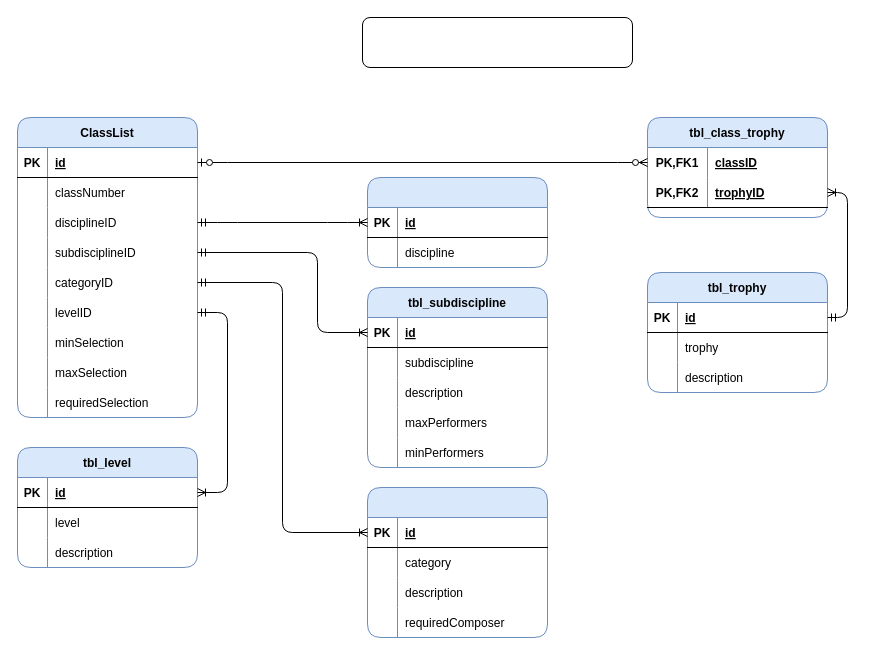
Some shapes in this 874 by 655 pixel diagram are drawn without their labels. The shapes that lost their labels are listed below. From the top down, each one's box as (x1, y1, x2, y2) in pixels, then its label:
(362, 16, 632, 68): Festival Class Database
(366, 176, 548, 268): tbl_discipline
(366, 486, 548, 638): tbl_category
